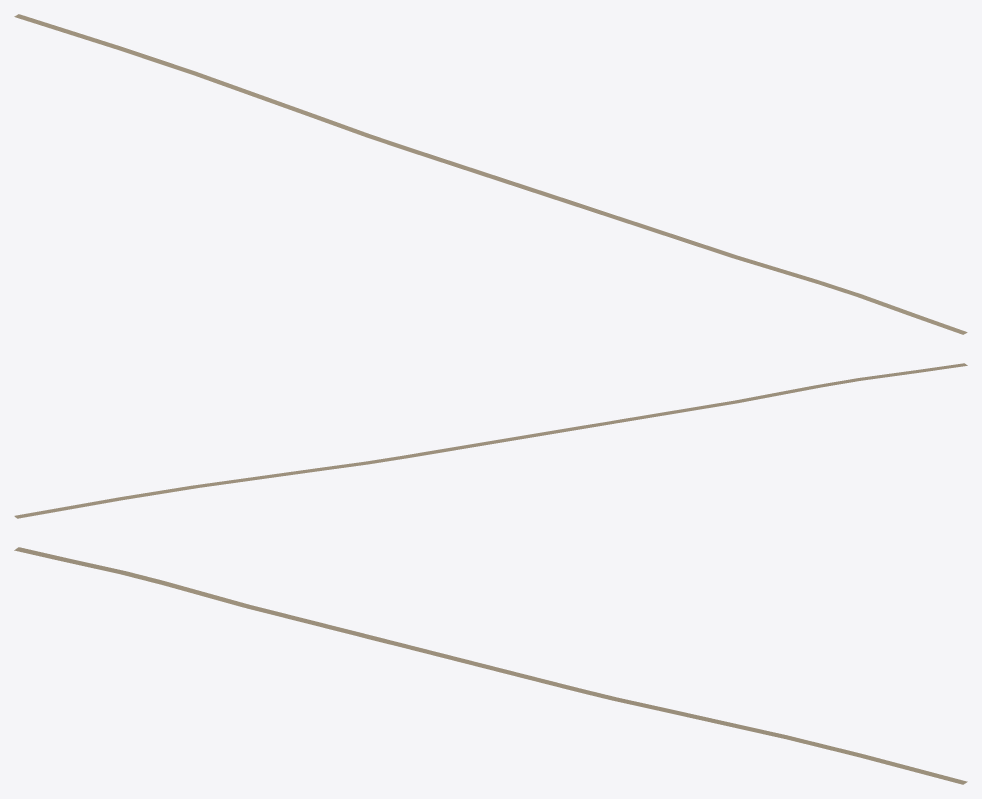
The model's file is farm_5_-2_track.glb.
3 renders of one model, top to bottom at view 1: azimuth 90°, elevation 25°; view 2: azimuth 150°, elevation 25°; view 3: azimuth 270°, elevation 25°, orthographic. The views are drawn at different scales.
Visible parts, largest first — view 1: geometry_0; view 2: geometry_0; view 3: geometry_0.
Boxes of the visible parts, x1,y1,x2,y2 form: geometry_0: [14, 14, 967, 334]; geometry_0: [14, 363, 967, 518]; geometry_0: [14, 547, 967, 784].
Bounding box in the file's own units: 255 × 17.89 × 368.
